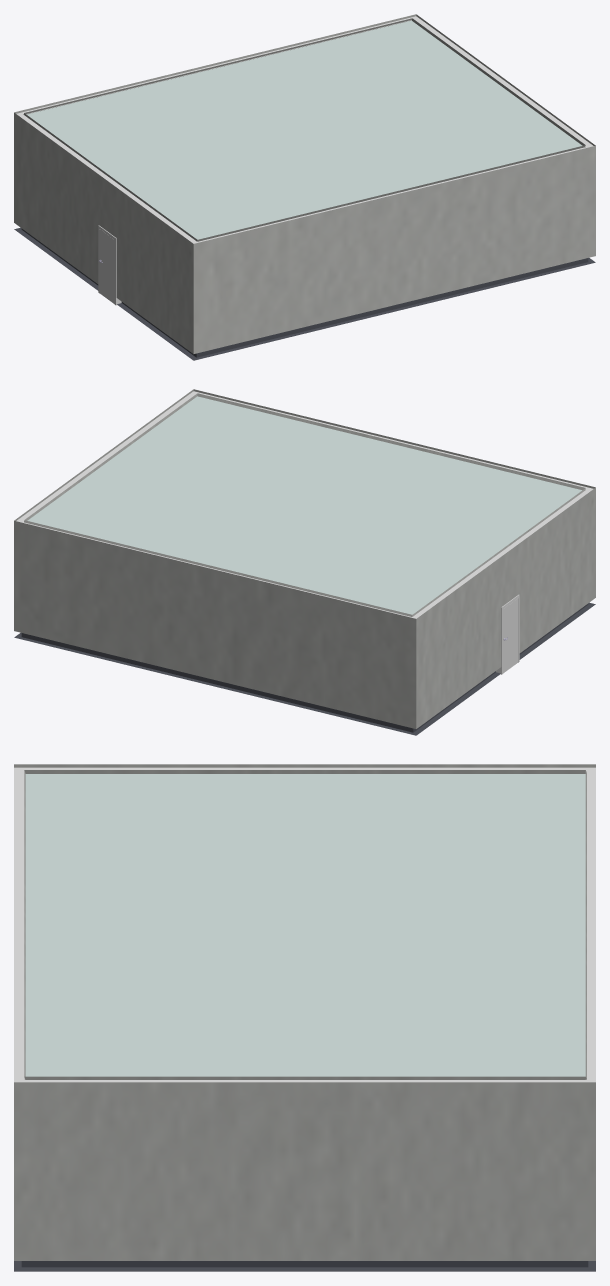
File: simpleroom.fbx
3 views of the same model, one above another, from view 1: azimuth 30°, elevation 25°; view 2: azimuth 150°, elevation 25°; view 3: azimuth 270°, elevation 25° (orthographic). The views are drawn at different scales.
Parts seen in each view (by area): view 1: floor, ceilling, gray, light, Door; view 2: floor, ceilling, gray, light, Door; view 3: ceilling, floor, light, gray.
Boxes of the visible parts, x1,y1,x2,y2 form: floor: [14, 14, 595, 353]; ceilling: [27, 20, 582, 239]; gray: [14, 227, 595, 360]; light: [16, 16, 593, 243]; Door: [99, 229, 114, 303]; floor: [14, 389, 595, 728]; ceilling: [27, 396, 581, 614]; gray: [14, 602, 595, 735]; light: [16, 391, 593, 618]; Door: [503, 598, 517, 672]; ceilling: [25, 774, 585, 1076]; floor: [14, 764, 595, 1260]; light: [14, 767, 595, 1082]; gray: [14, 1261, 595, 1271].
Size of the model in its own units: 6635 by 1846 by 5099.
